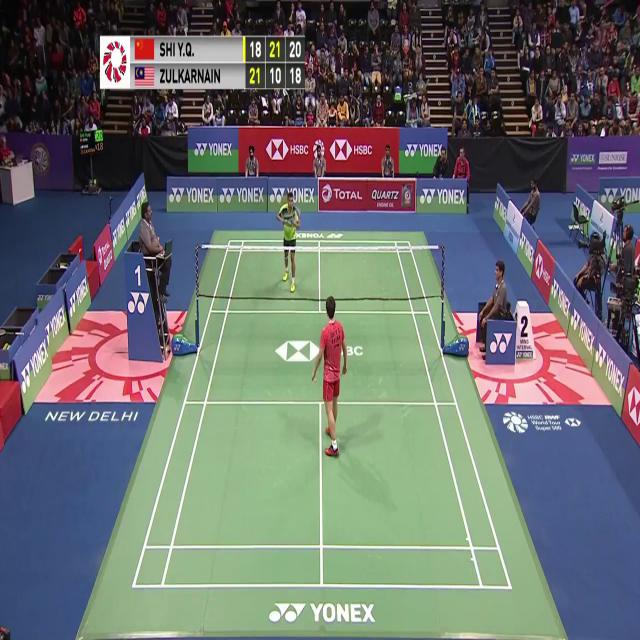Shuttlecock: (313, 374, 320, 385)
